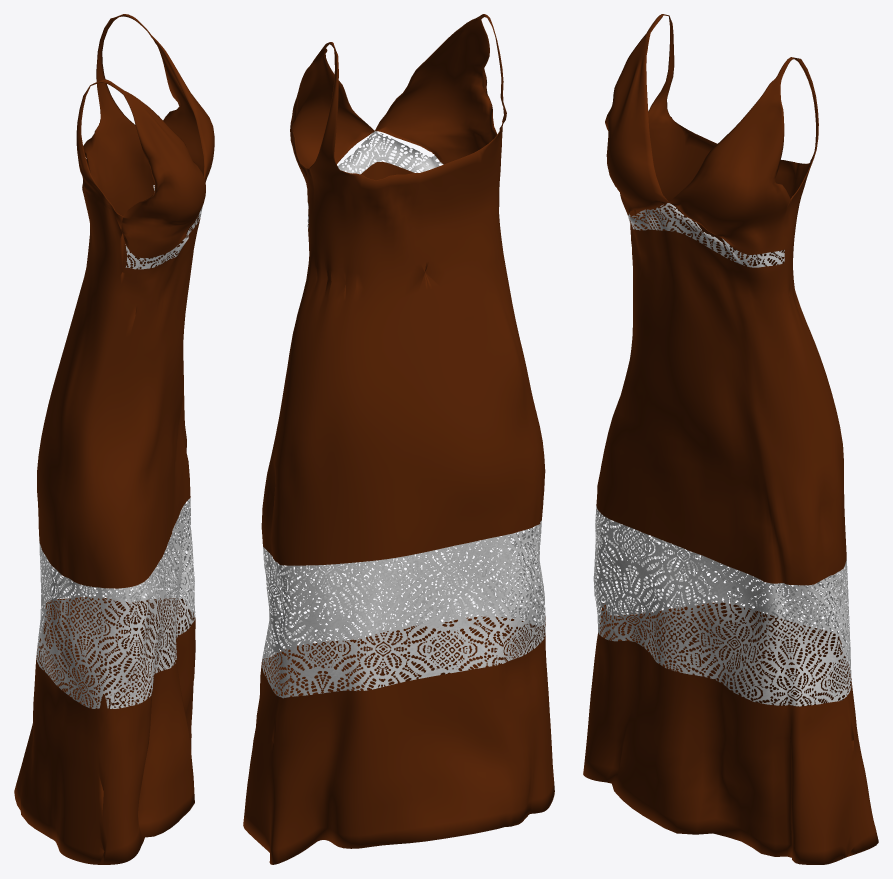
The model's file is dress1.fbx.
3 renders of one model, left to right at view 1: azimuth 30°, elevation 25°; view 2: azimuth 150°, elevation 25°; view 3: azimuth 270°, elevation 25°, orthographic. The views are drawn at different scales.
Visible parts, largest first — view 1: dress_final_lowres_with_texture_solid; view 2: dress_final_lowres_with_texture_solid; view 3: dress_final_lowres_with_texture_solid.
Part boxes in pixels (x1,y1,x2,y2): dress_final_lowres_with_texture_solid: (14,14,214,864); dress_final_lowres_with_texture_solid: (243,14,554,864); dress_final_lowres_with_texture_solid: (583,14,878,864).
Bounding box in the file's own units: 32.58 × 114 × 38.81.
Materials: 2 (1 with a texture image).
